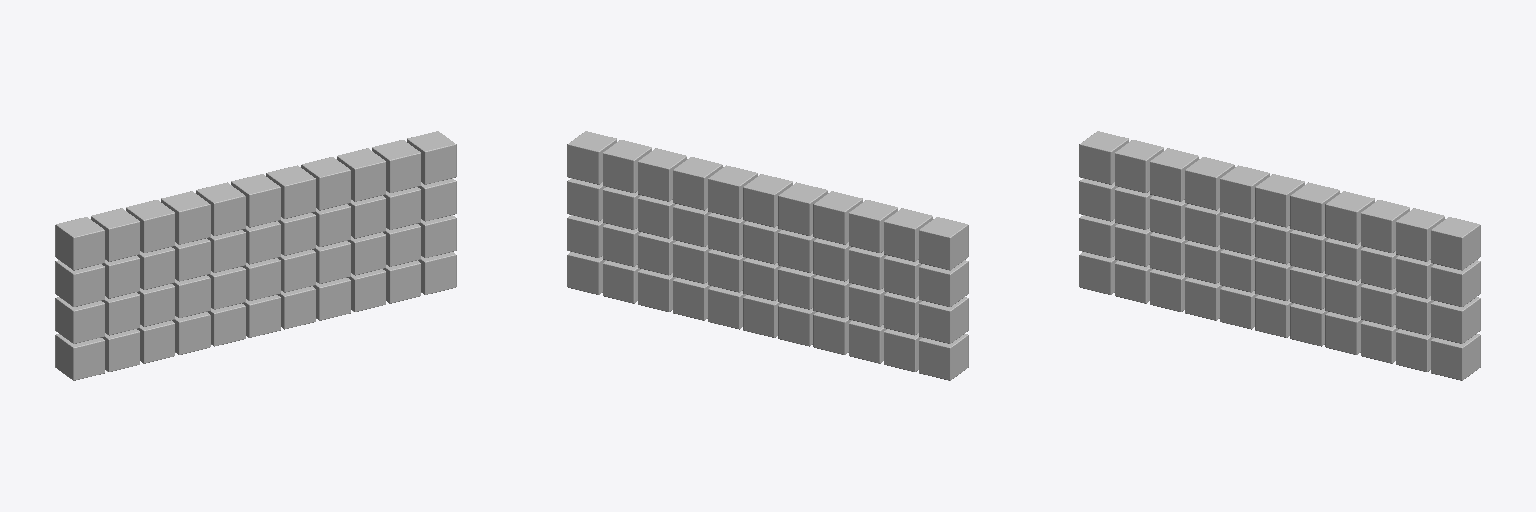
File: mainfront.obj
3 renders of one model, left to right at view 1: azimuth 30°, elevation 25°; view 2: azimuth 150°, elevation 25°; view 3: azimuth 330°, elevation 25°, orthographic.
Parts seen in each view (by area): view 1: Cube.002_Cube.004; view 2: Cube.002_Cube.004; view 3: Cube.002_Cube.004.
Boxes of the visible parts, <box> form: Cube.002_Cube.004: <box>55,131,456,380</box>; Cube.002_Cube.004: <box>567,131,968,380</box>; Cube.002_Cube.004: <box>1079,131,1480,380</box>.
Bounding box in the file's own units: 72 × 25.8 × 6.